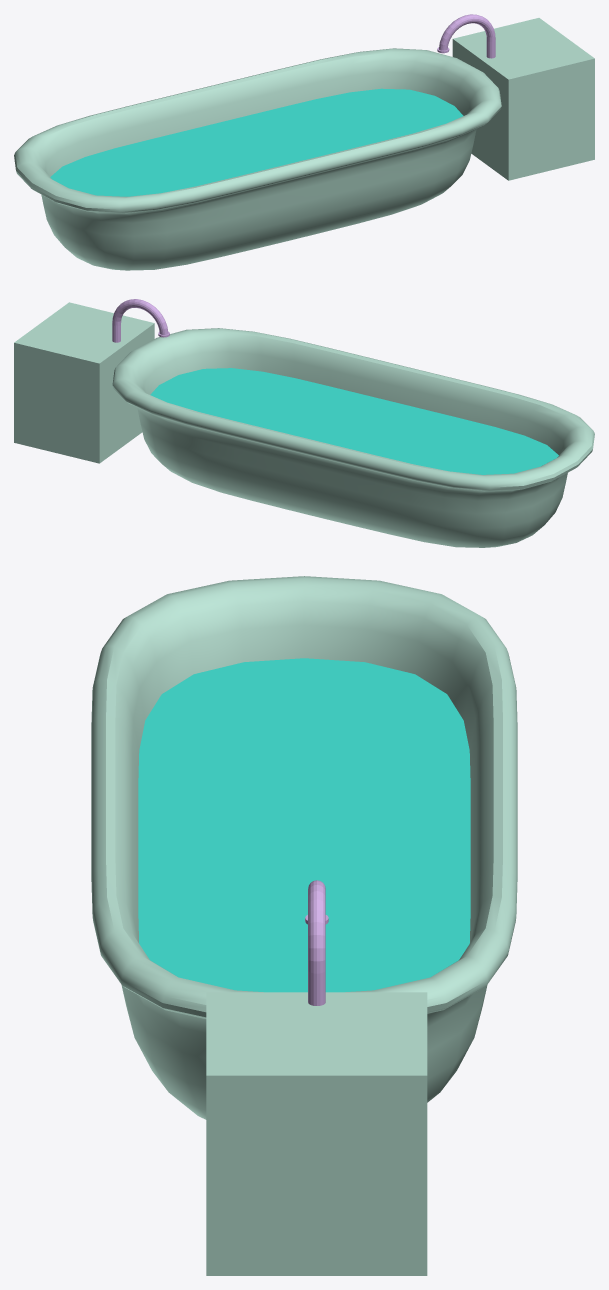
Rendered from Jacuzzi .fbx.
3 renders of one model, top to bottom at view 1: azimuth 30°, elevation 25°; view 2: azimuth 150°, elevation 25°; view 3: azimuth 270°, elevation 25°, orthographic. The views are drawn at different scales.
Visible parts, largest first — view 1: Jacuzzi, water; view 2: Jacuzzi, water; view 3: Jacuzzi, water.
Part boxes in pixels (bbox=[...]): Jacuzzi: bbox=[14, 14, 594, 270]; water: bbox=[50, 88, 463, 196]; Jacuzzi: bbox=[14, 299, 594, 547]; water: bbox=[150, 368, 558, 474]; Jacuzzi: bbox=[91, 576, 517, 1275]; water: bbox=[138, 658, 470, 992].
Size of the model in its own units: 519 by 147 by 179.
